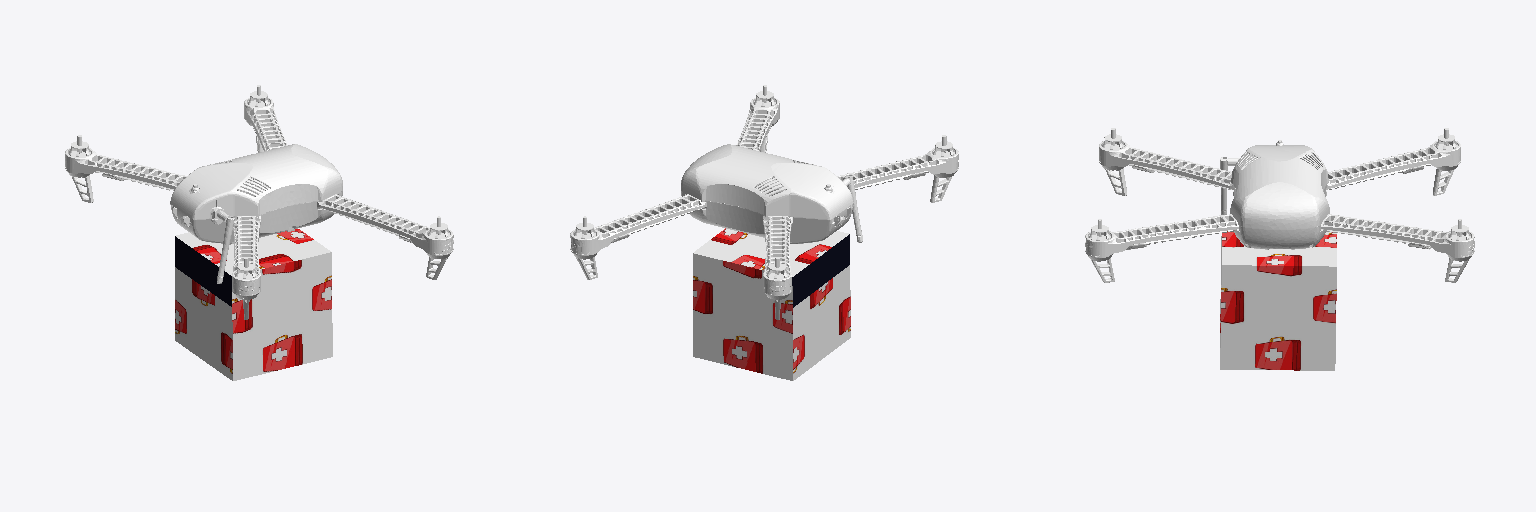
The picture shows the model from 3 angles: view 1: azimuth 30°, elevation 25°; view 2: azimuth 150°, elevation 25°; view 3: azimuth 270°, elevation 25°; orthographic projection.
Parts seen in each view (by area): view 1: Cube_Cube.001; view 2: Cube_Cube.001; view 3: Cube_Cube.001.
Boxes of the visible parts, x1=… form: Cube_Cube.001: x1=65, y1=85, x2=453, y2=380; Cube_Cube.001: x1=570, y1=85, x2=958, y2=380; Cube_Cube.001: x1=1085, y1=128, x2=1474, y2=370.
Size of the model in its own units: 0.2994 by 0.2496 by 0.4777.
Materials: 1 (1 with a texture image).